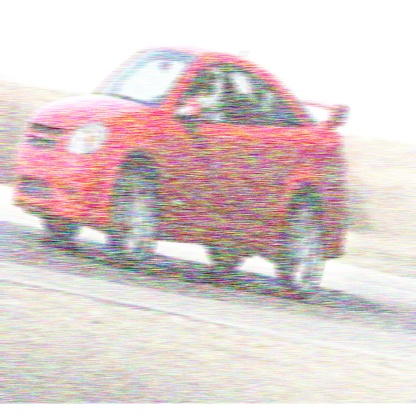Vehicle: (12, 42, 349, 305)
